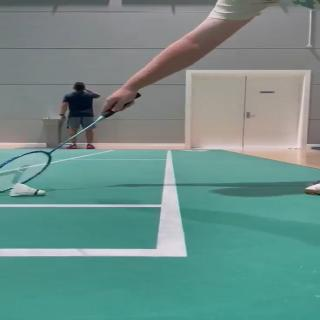Shuttle: (10, 183, 46, 196)
